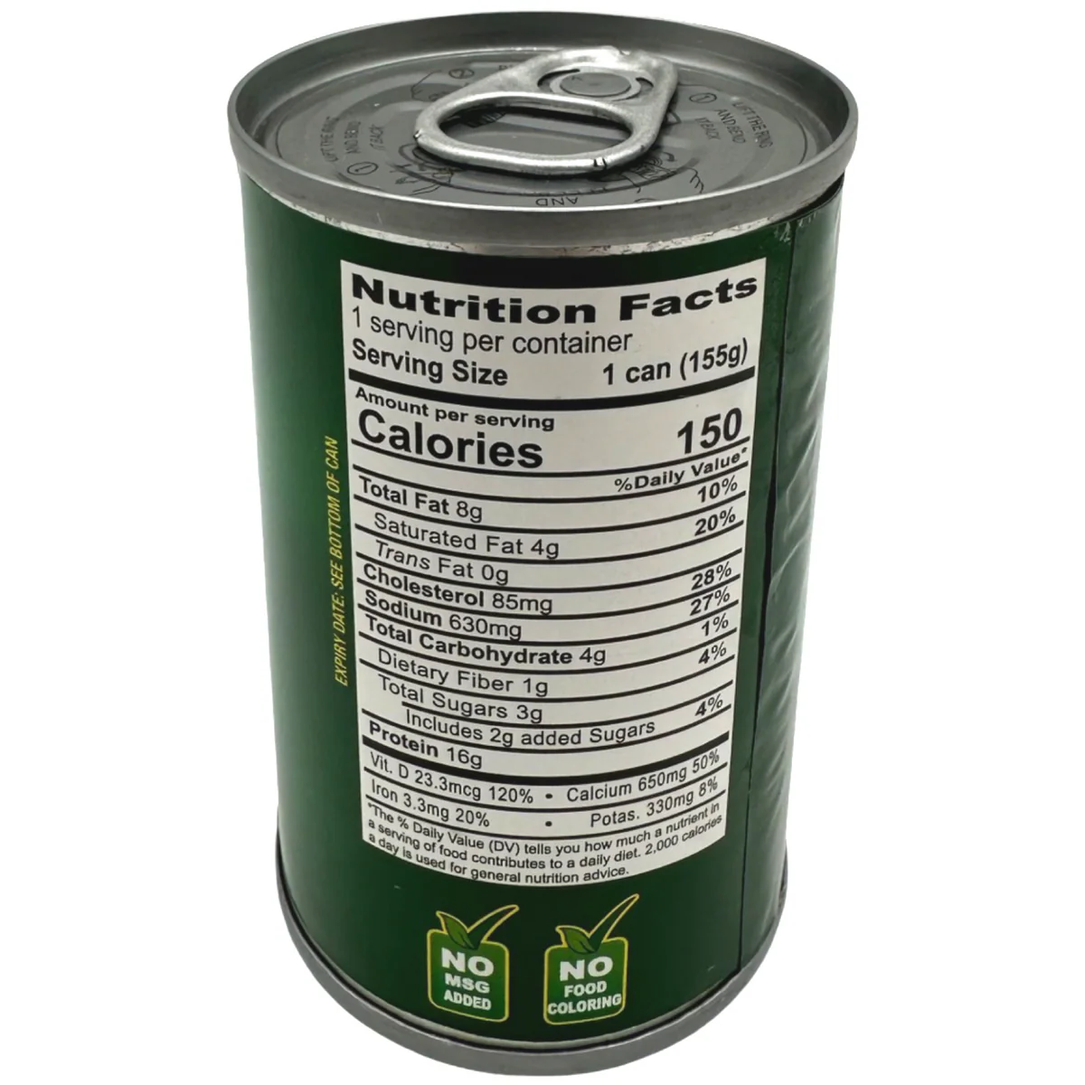non-toxic_waste: (261, 57, 804, 1028)
